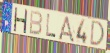4: (75, 18, 89, 46)
A: (57, 15, 76, 44)
B: (28, 9, 43, 36)
D: (89, 20, 106, 47)
H: (13, 7, 29, 35)
L: (45, 13, 57, 39)
